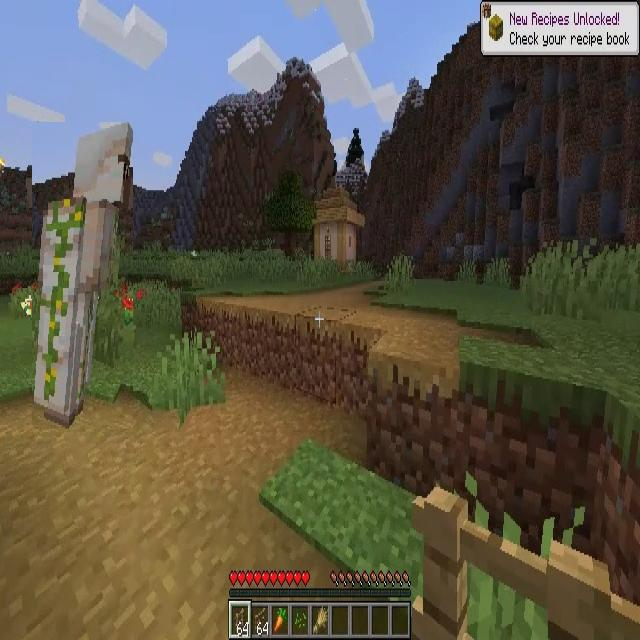people: (32, 122, 133, 429)
